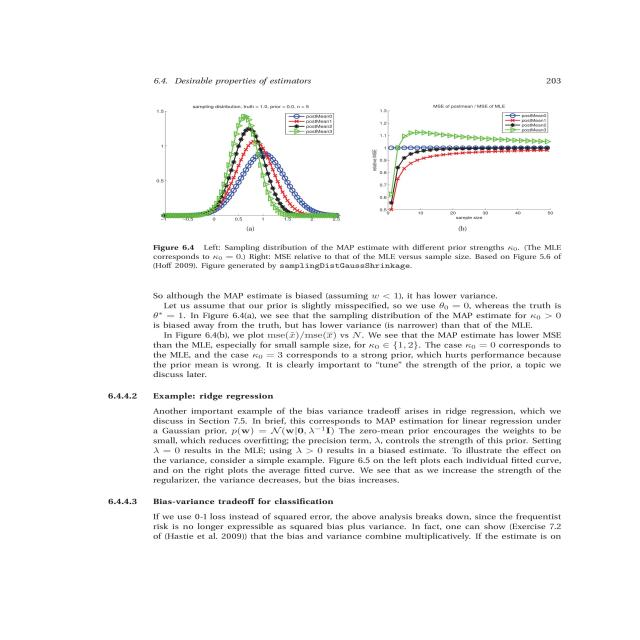diagram: (114, 90, 628, 278)
